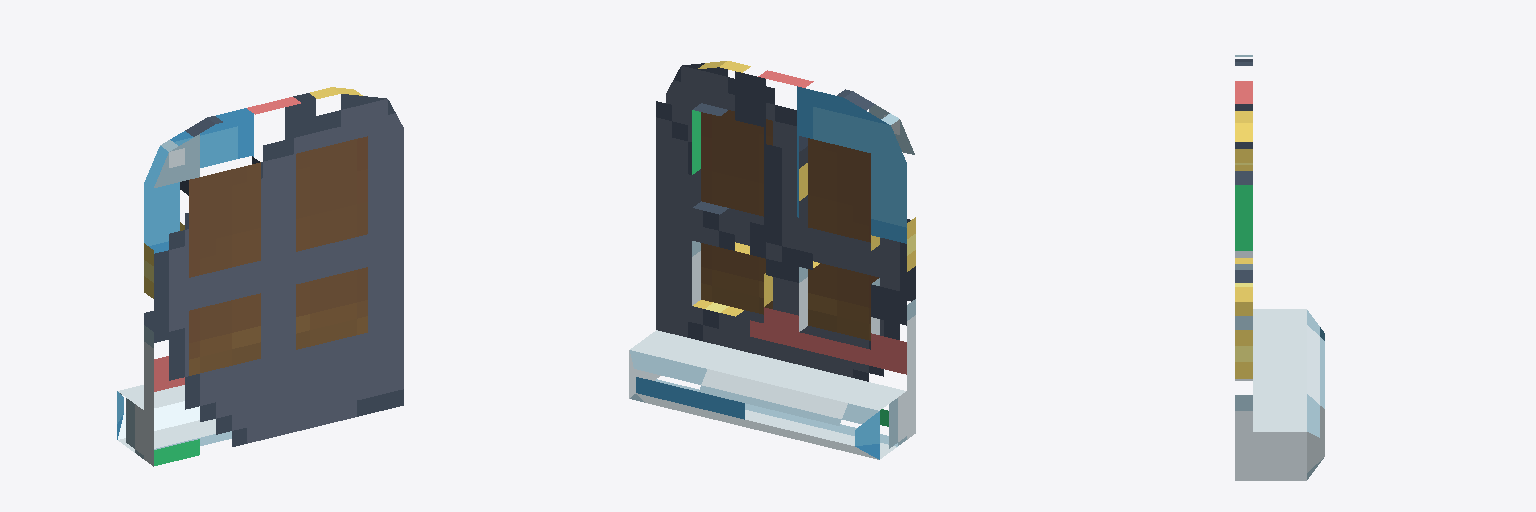
3 views of the same model, side by side, from view 1: azimuth 30°, elevation 25°; view 2: azimuth 150°, elevation 25°; view 3: azimuth 270°, elevation 25° (orthographic).
Parts seen in each view (by area): view 1: cuboid; view 2: cuboid; view 3: cuboid.
Part boxes in pixels (x1,y1,x2,y2): cuboid: (117,87,403,466); cuboid: (629,61,915,459); cuboid: (1235,55,1324,480).
Size of the model in its own units: 1 by 1.25 by 0.3125.
2 materials, 2 textured.